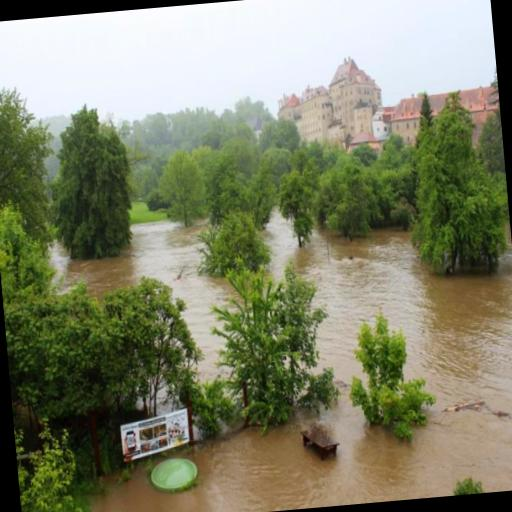flood: (90, 212, 512, 512), (50, 221, 233, 379)
house: (298, 60, 380, 141), (386, 94, 420, 140)
